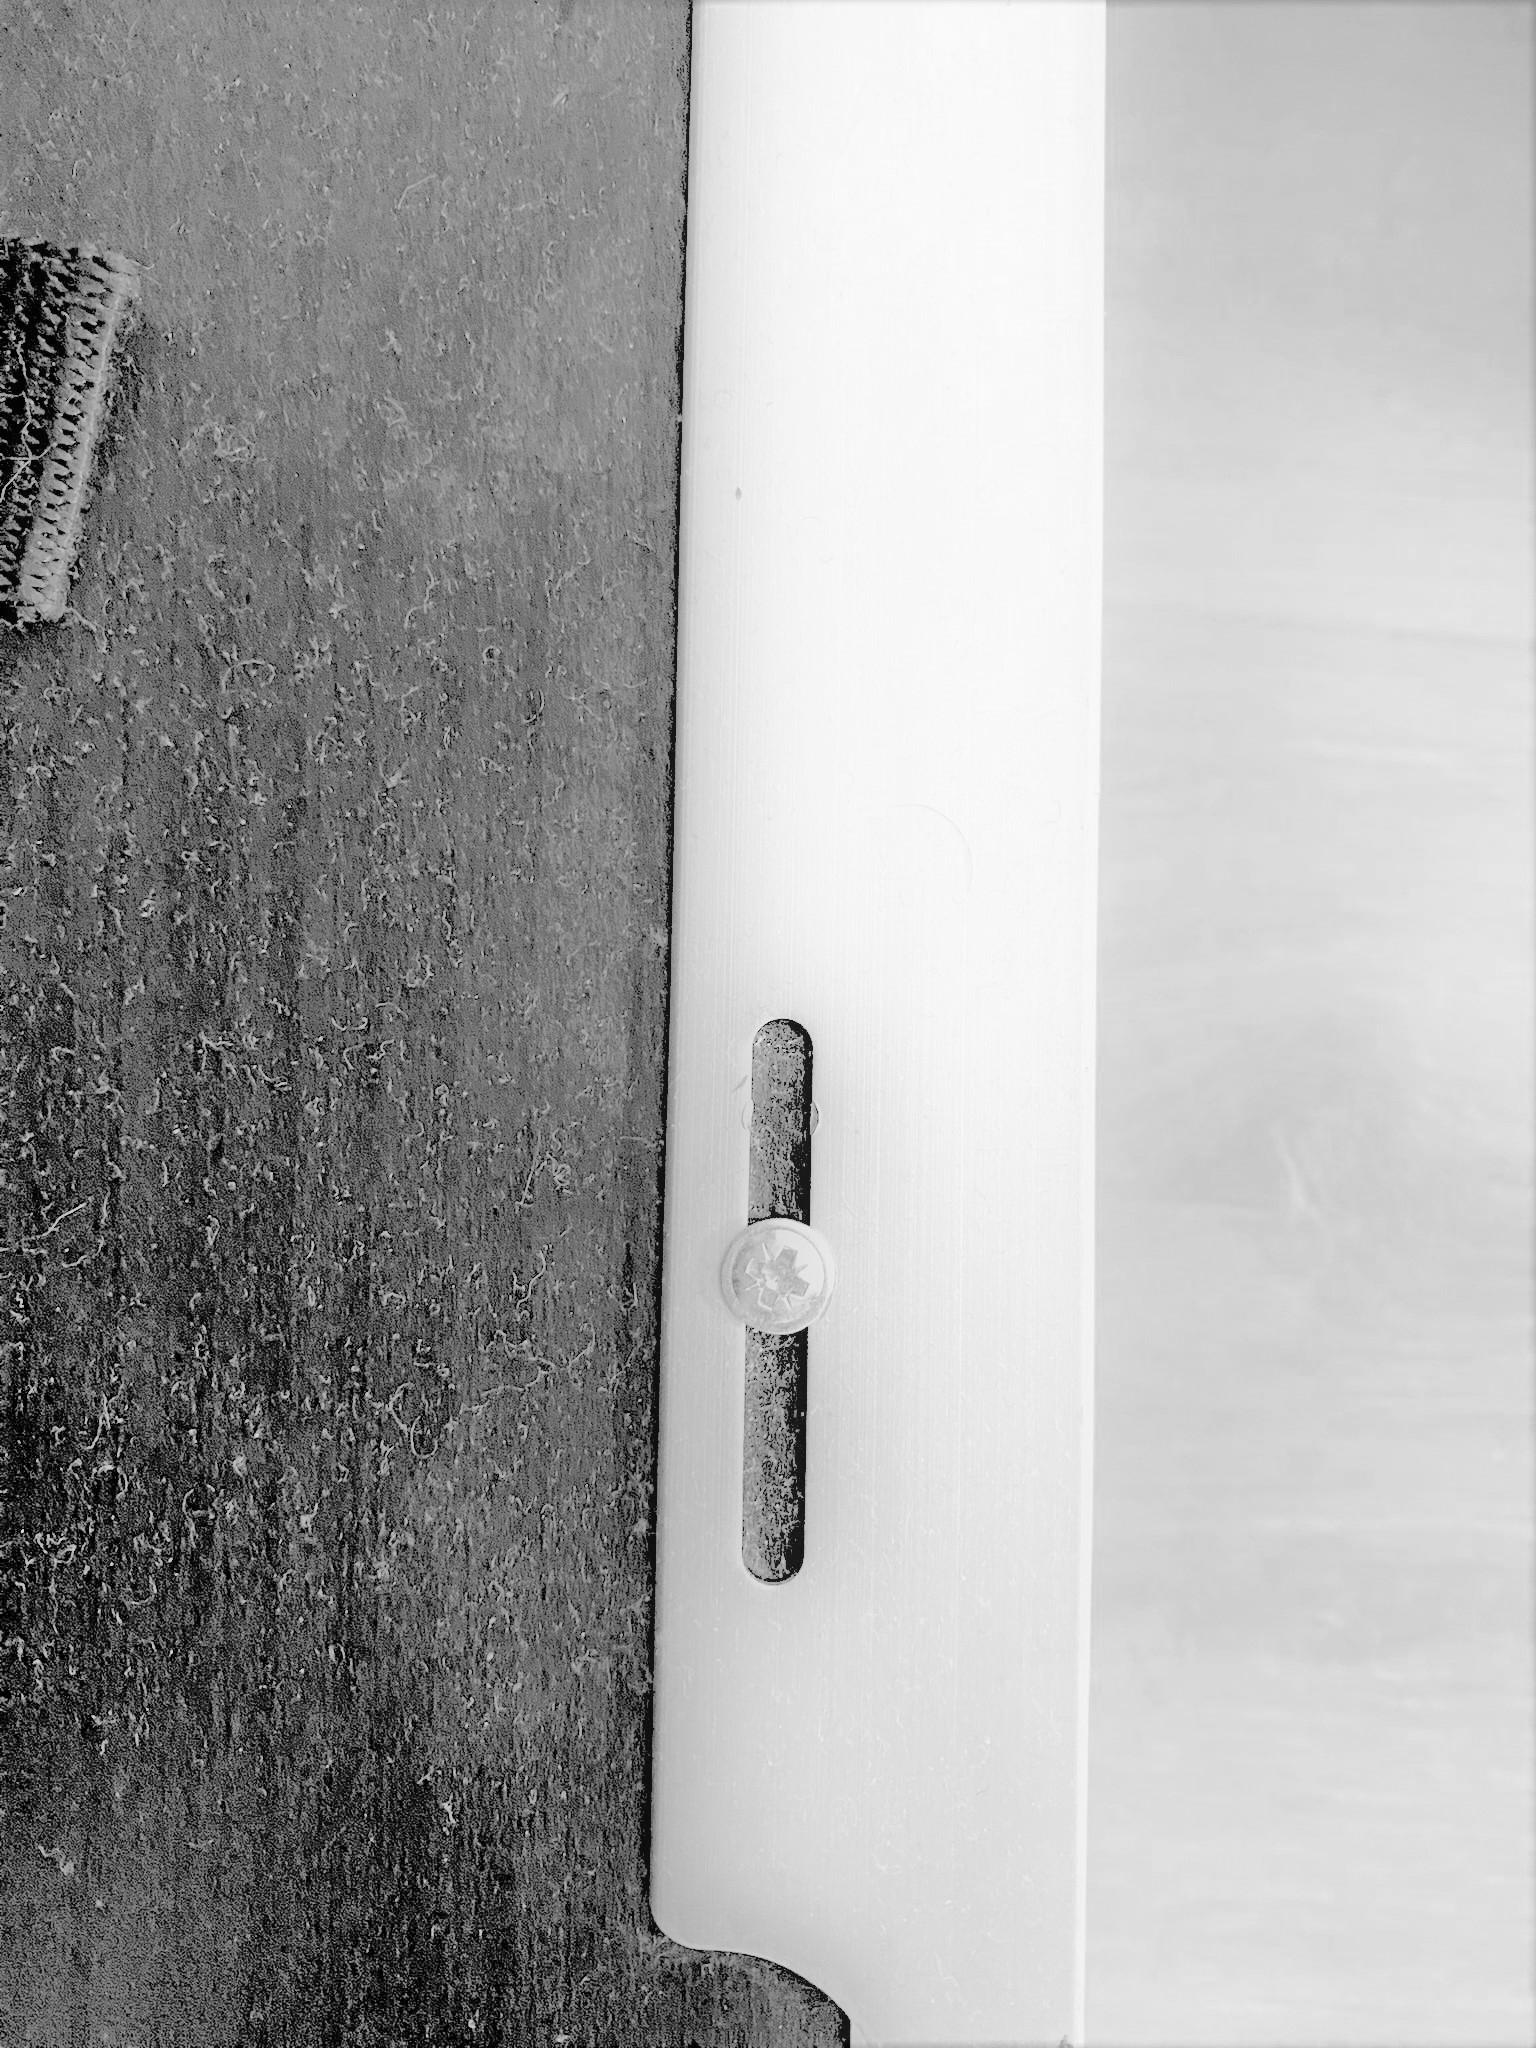screw: (721, 1216, 837, 1335)
